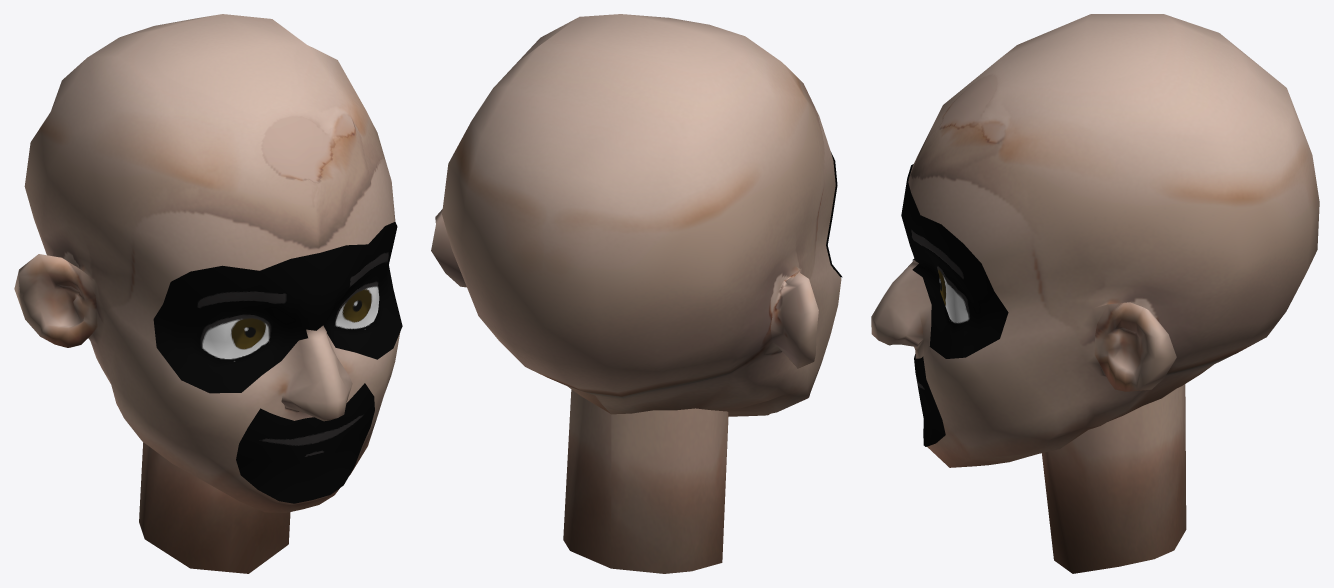
Rendered from M_Head_02.fbx.
3 renders of one model, left to right at view 1: azimuth 30°, elevation 25°; view 2: azimuth 150°, elevation 25°; view 3: azimuth 270°, elevation 25°, orthographic. The views are drawn at different scales.
Parts seen in each view (by area): view 1: MDL_M_Head_02; view 2: MDL_M_Head_02; view 3: MDL_M_Head_02.
Boxes of the visible parts, x1,y1,x2,y2 form: MDL_M_Head_02: [14, 14, 402, 573]; MDL_M_Head_02: [431, 14, 842, 573]; MDL_M_Head_02: [871, 14, 1319, 573].
Size of the model in its own units: 3.66 by 4.92 by 3.85.
